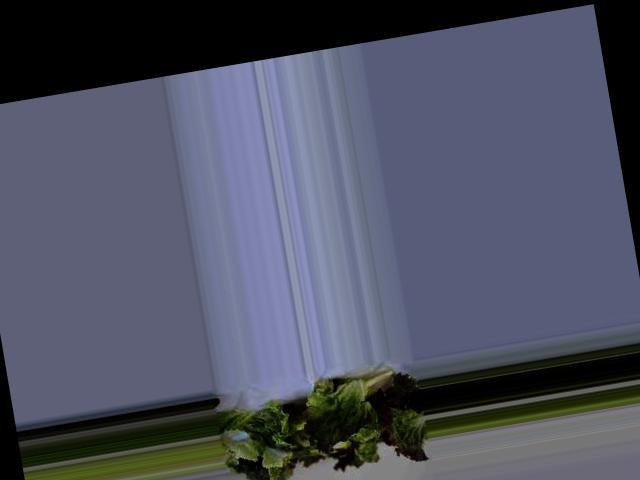lettuce: (259, 338, 426, 480)
